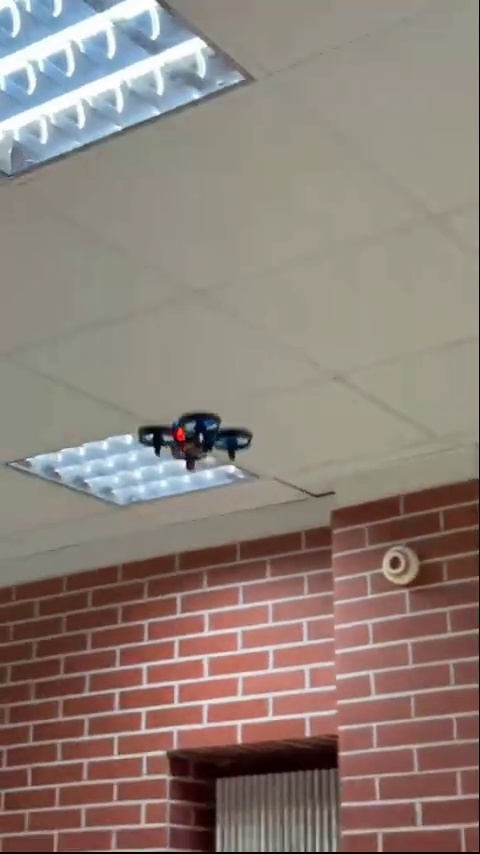drone: (141, 409, 247, 475)
